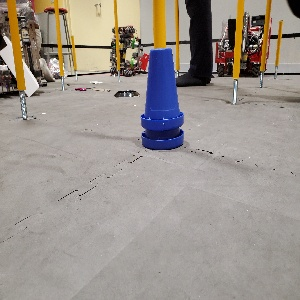Blue_2: (140, 47, 184, 149), (160, 46, 162, 49)
